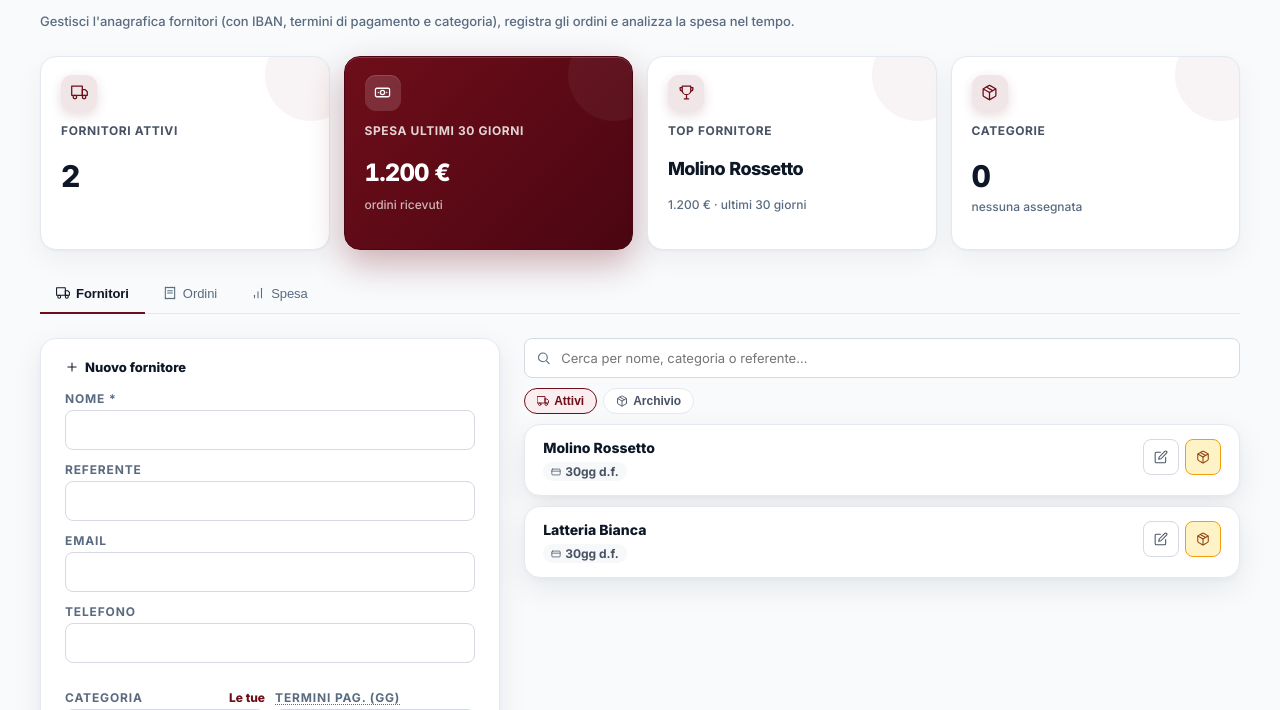
ordini: il totale di testata › un ordine annullato non è una spesa: fuori dal totale
This screenshot has width=1280, height=710.
What coordinates should you click on to do the following:
click the button "Ordini"
I would click on:
 (190, 294)
Its box is [147,274,233,314].
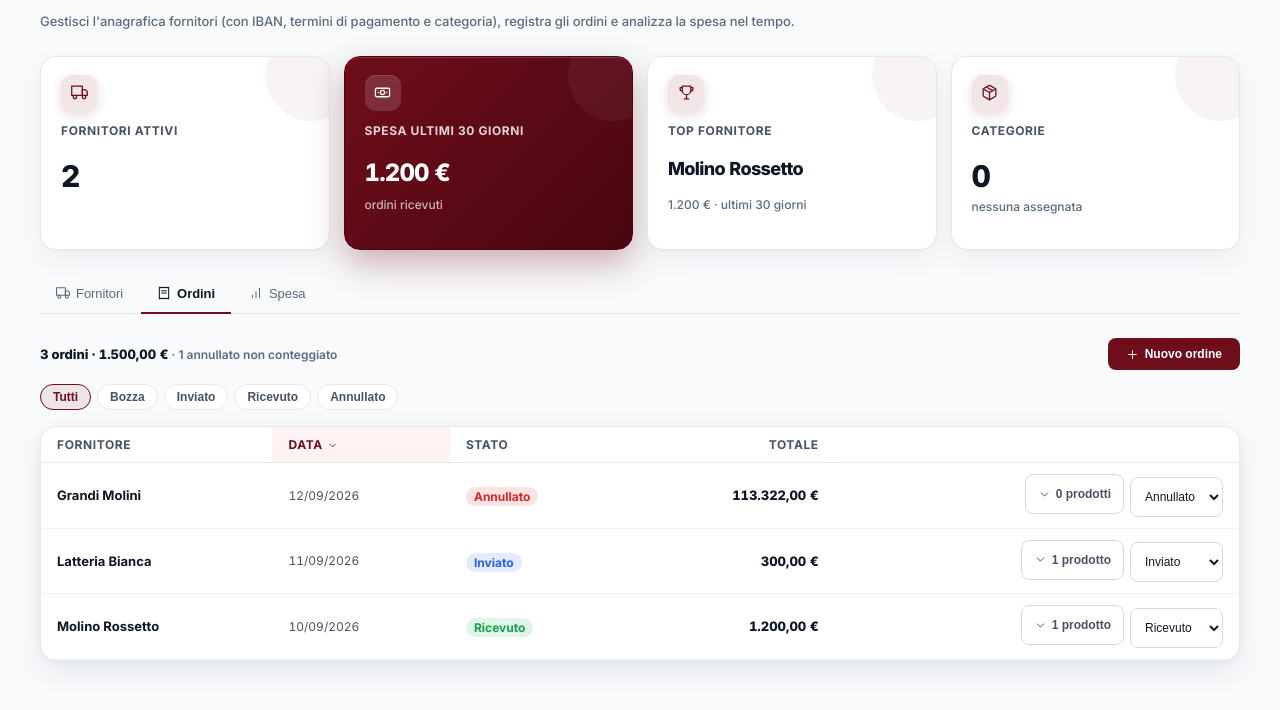
expect the text "Molino Rossetto" is shown: met, box [668,158,803,178]
expect the text "1.500" is shown: met, box [99,346,168,362]
